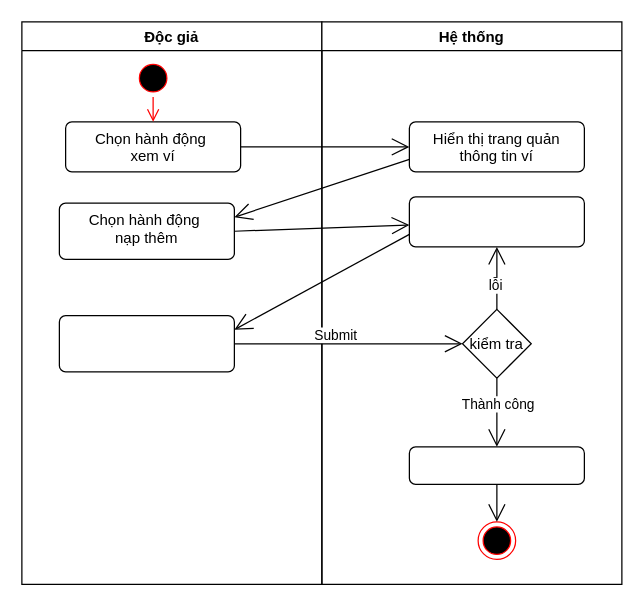
The diagram is 644 pixels wide and 606 high, and some of its shapes have lost their labels. The shapes that lost their labels are listed below. From the top down, each one's box as (x1, y1, x2, y2) in pixels, then its label:
(408, 196, 584, 247): Hiển thị form theo yêu cầu
(58, 314, 234, 372): Nhập thông tin nạp ví
(408, 446, 584, 484): Cập nhật cơ sở dữ liệu
